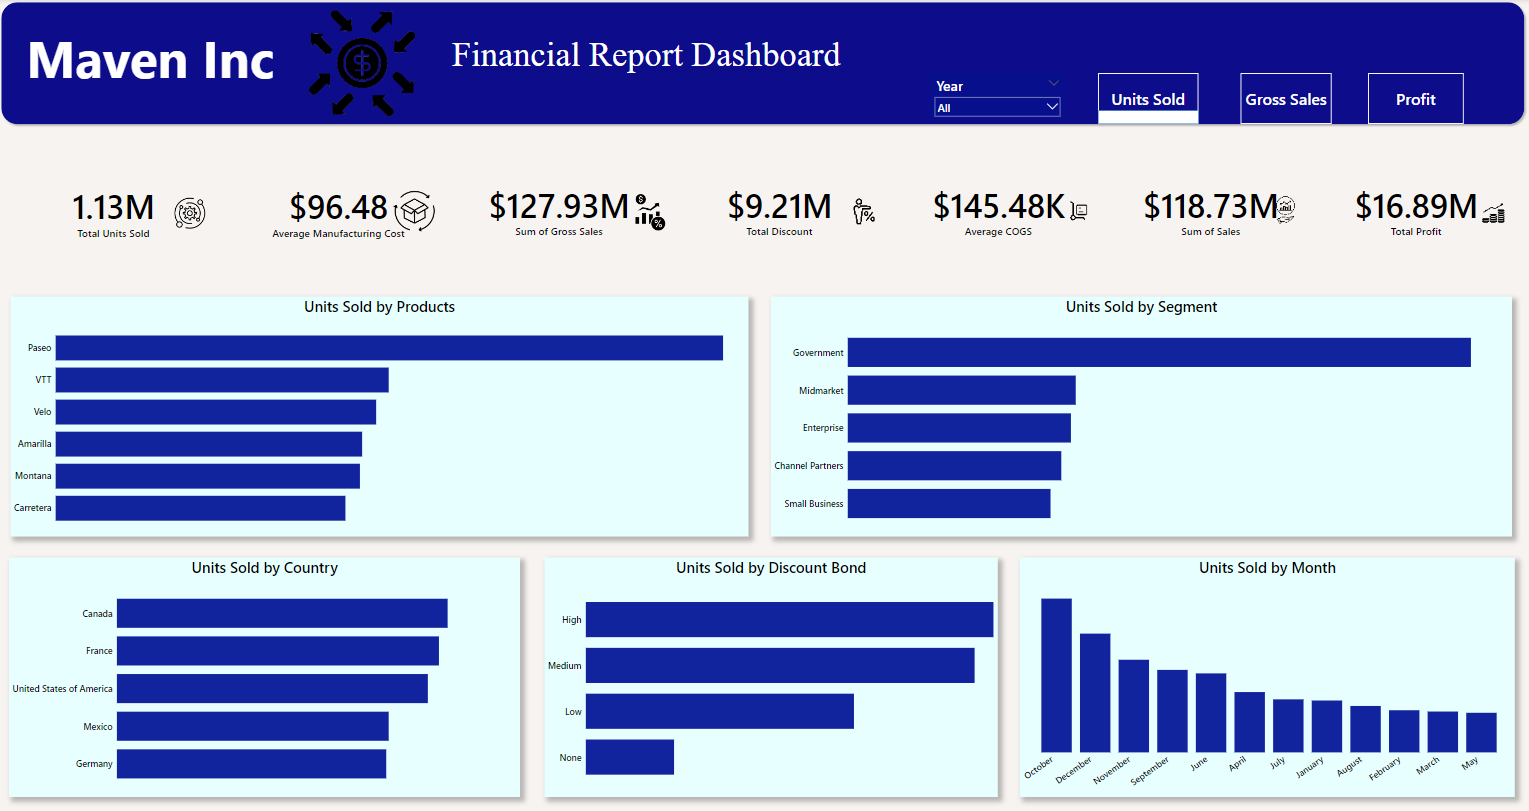

Layout of this report page (visuals, bound fields, positions):
{"tool":"powerbi","page":{"name":"Unit Sold","canvas":[3200,1700],"ordinal":0},"visuals":[{"type":"shape","box":[0,0,3198.5,272.5],"z":0},{"type":"textbox","box":[56.8,45.4,624.6,177.9],"z":1000},{"type":"image","box":[545.1,0,435.3,272.6],"z":2000},{"type":"textbox","box":[927.5,71.9,1241.6,132.5],"z":3000},{"type":"slicer","fields":{"Values":["financials.Year"]},"box":[1948.6,156.6,281.9,94],"z":4000},{"type":"card","fields":{"Values":["financials.SUM OF UNIT"]},"box":[28.2,319.5,429.2,253.8],"z":5000},{"type":"image","box":[347.7,363.4,109.6,172.3],"z":6000},{"type":"card","fields":{"Values":["financials.Average Cost"]},"box":[498.1,319.5,429.2,253.8],"z":7000},{"type":"image","box":[813.5,364.8,113,164.6],"z":8000},{"type":"card","fields":{"Values":["financials.Sum of Gross Sales"]},"box":[958.6,316.4,429.2,253.8],"z":9000},{"type":"image","box":[1309.5,360.3,109.6,172.3],"z":10000},{"type":"card","fields":{"Values":["financials.Sum of Discount"]},"box":[1419.1,316.4,429.2,253.8],"z":11000},{"type":"card","fields":{"Values":["financials.Sum of Sales"]},"box":[2337,316.4,394.7,253.8],"z":12000},{"type":"image","box":[1773.1,360.3,75.2,172.3],"z":13000},{"type":"card","fields":{"Values":["financials.Sum of COGS"]},"box":[1882.8,316.4,416.7,253.8],"z":14000},{"type":"image","box":[2650.2,358.3,80.7,171.1],"z":15000},{"type":"card","fields":{"Values":["financials.Total Profit"]},"box":[2763.1,316.4,401,253.8],"z":16000},{"type":"image","box":[3085.7,363.4,78.3,169.2],"z":17000},{"type":"image","box":[2218,357.1,81.5,172.3],"z":18000},{"type":"clusteredBarChart","title":"Units Sold by Products","fields":{"Category":["financials.Product"],"Y":["Sum(financials.Units Sold)"]},"box":[28.2,623.4,1541.3,501.2],"z":19000},{"type":"clusteredBarChart","title":"Units Sold by Segment","fields":{"Y":["Sum(financials.Units Sold)"],"Category":["financials.Segment"]},"box":[1616.5,623.4,1547.6,501.2],"z":20000},{"type":"clusteredBarChart","title":"Units Sold by Discount Bond","fields":{"Y":["Sum(financials.Units Sold)"],"Category":["financials.Discount Band"]},"box":[1143.2,1169.7,946.4,499.7],"z":21000},{"type":"clusteredColumnChart","title":"Units Sold by Month","fields":{"Category":["financials.Month Name"],"Y":["Sum(financials.Units Sold)"]},"box":[2135,1169.7,1033.4,499.7],"z":22000},{"type":"clusteredBarChart","title":"Units Sold by Country","fields":{"Y":["Sum(financials.Units Sold)"],"Category":["financials.Country"]},"box":[26.5,1169.7,1067.5,499.7],"z":23000},{"type":"actionButton","box":[2299.4,156.6,209.9,106.5],"z":24000},{"type":"shape","box":[2299.4,235,209.9,28.2],"z":25000},{"type":"actionButton","box":[2863.2,158.2,200.1,106.5],"z":26000},{"type":"actionButton","box":[2598.5,158.2,190.5,106.5],"z":27000}]}

Visuals, with their boxes in screenshot pixels (x1, y1, x2, y2), scaled from the page's 3200x1700 canvas onto the 1529x811 screenshot:
shape: 0 0 1528 130
textbox: 27 22 326 107
image: 260 0 468 130
textbox: 443 34 1036 98
slicer - financials.Year: 931 75 1066 120
card - financials.SUM OF UNIT: 13 152 219 273
image: 166 173 219 256
card - financials.Average Cost: 238 152 443 273
image: 389 174 443 253
card - financials.Sum of Gross Sales: 458 151 663 272
image: 626 172 678 254
card - financials.Sum of Discount: 678 151 883 272
card - financials.Sum of Sales: 1117 151 1305 272
image: 847 172 883 254
card - financials.Sum of COGS: 900 151 1099 272
image: 1266 171 1305 253
card - financials.Total Profit: 1320 151 1512 272
image: 1474 173 1512 254
image: 1060 170 1099 253
"Units Sold by Products" clusteredBarChart: 13 297 750 537
"Units Sold by Segment" clusteredBarChart: 772 297 1512 537
"Units Sold by Discount Bond" clusteredBarChart: 546 558 998 796
"Units Sold by Month" clusteredColumnChart: 1020 558 1514 796
"Units Sold by Country" clusteredBarChart: 13 558 523 796
actionButton: 1099 75 1199 126
shape: 1099 112 1199 126
actionButton: 1368 75 1464 126
actionButton: 1242 75 1333 126
